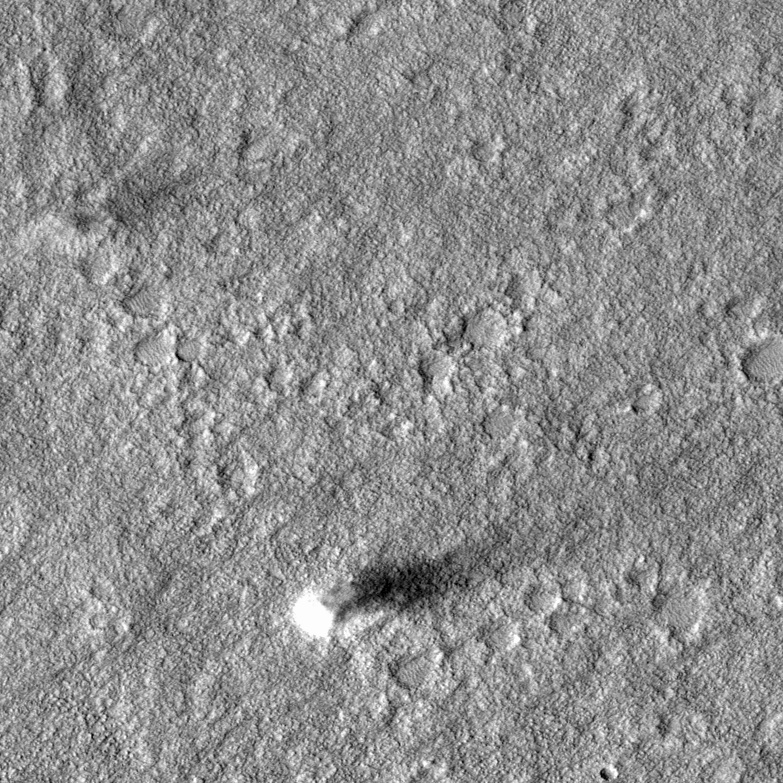dust_devil: (286, 545, 483, 644)
